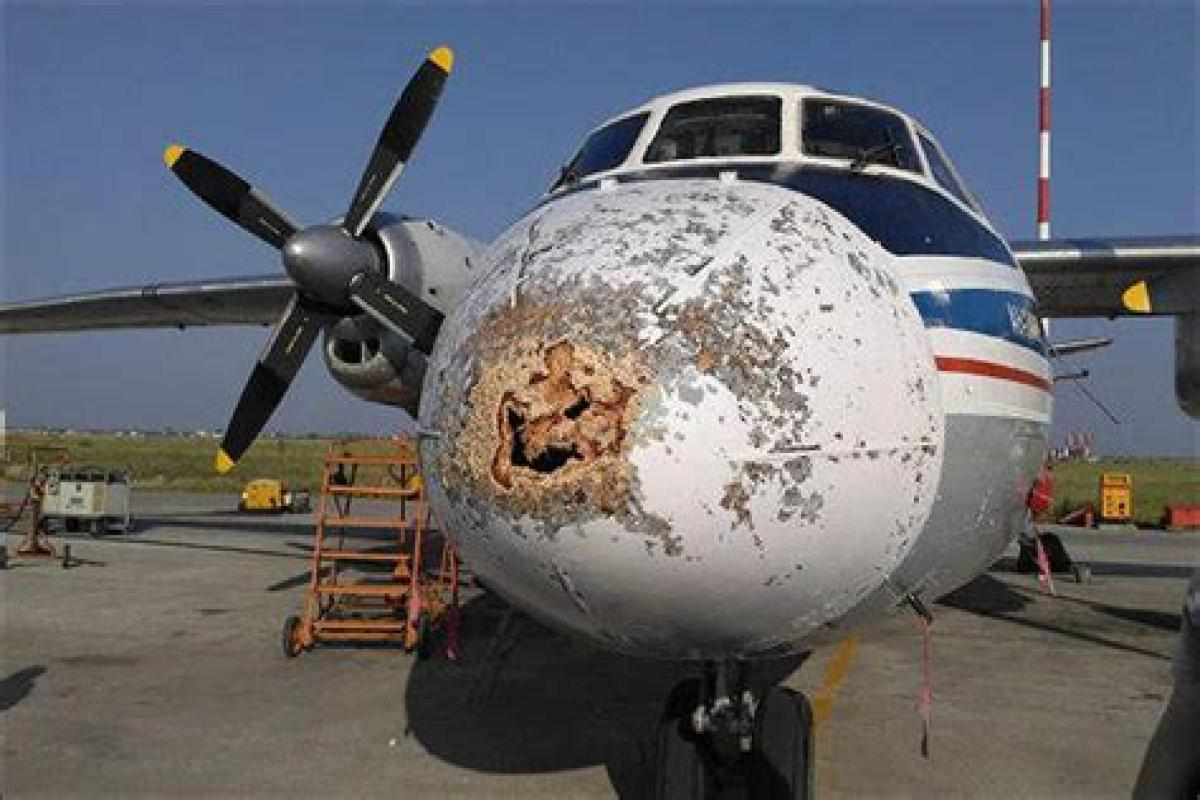Fuselage_damage: (412, 198, 942, 621)
